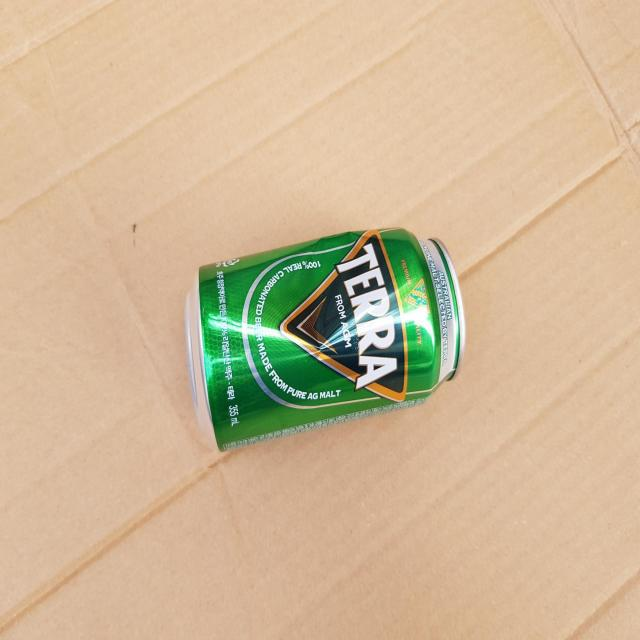can: (185, 228, 466, 451)
